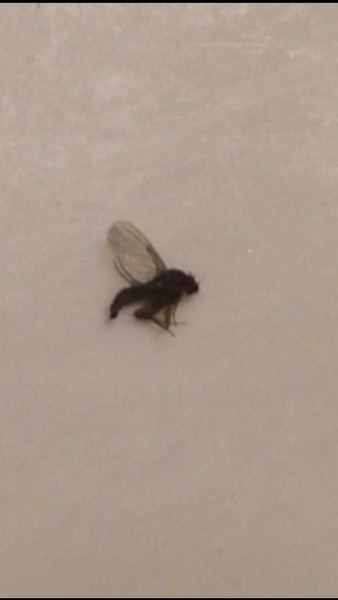phorid fly: (88, 217, 213, 348)
